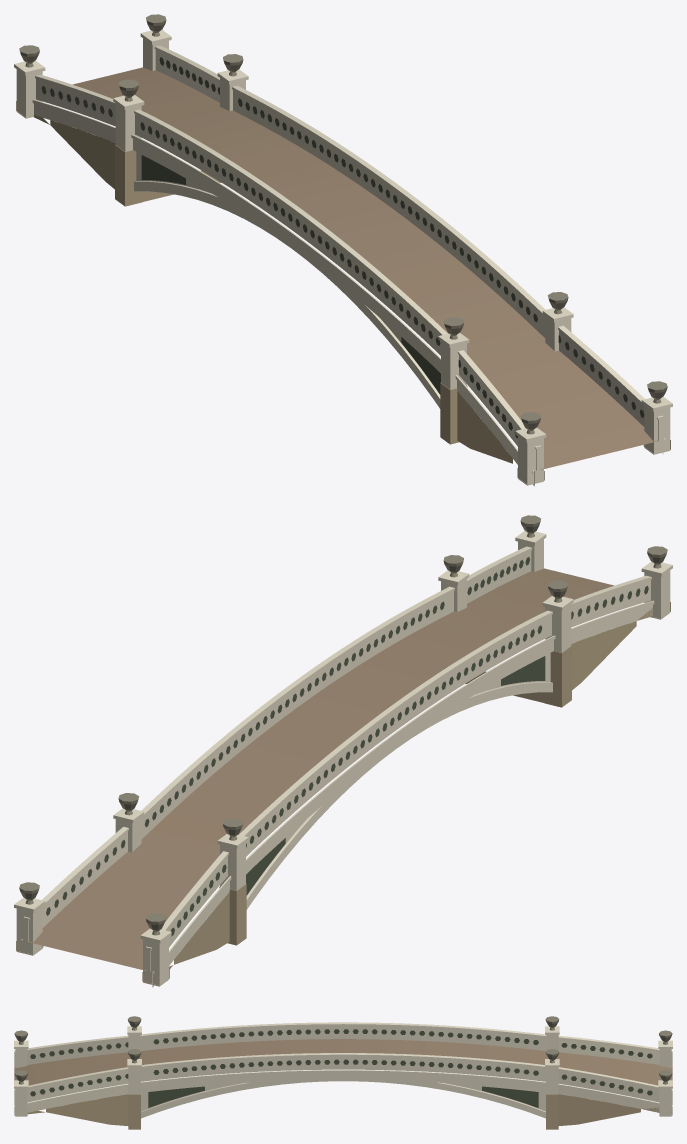
File: nyc-bow-bridge.glb
3 views of the same model, one above another, from view 1: azimuth 30°, elevation 25°; view 2: azimuth 150°, elevation 25°; view 3: azimuth 270°, elevation 25° (orthographic). The views are drawn at different scales.
Parts seen in each view (by area): view 1: Bow Bridge; view 2: Bow Bridge; view 3: Bow Bridge.
Part boxes in pixels (box(x1,y1,x2,y2)): Bow Bridge: box(14, 14, 672, 486); Bow Bridge: box(14, 515, 672, 987); Bow Bridge: box(14, 1016, 672, 1129).
Size of the model in its own units: 7.09 by 5.42 by 43.06.
